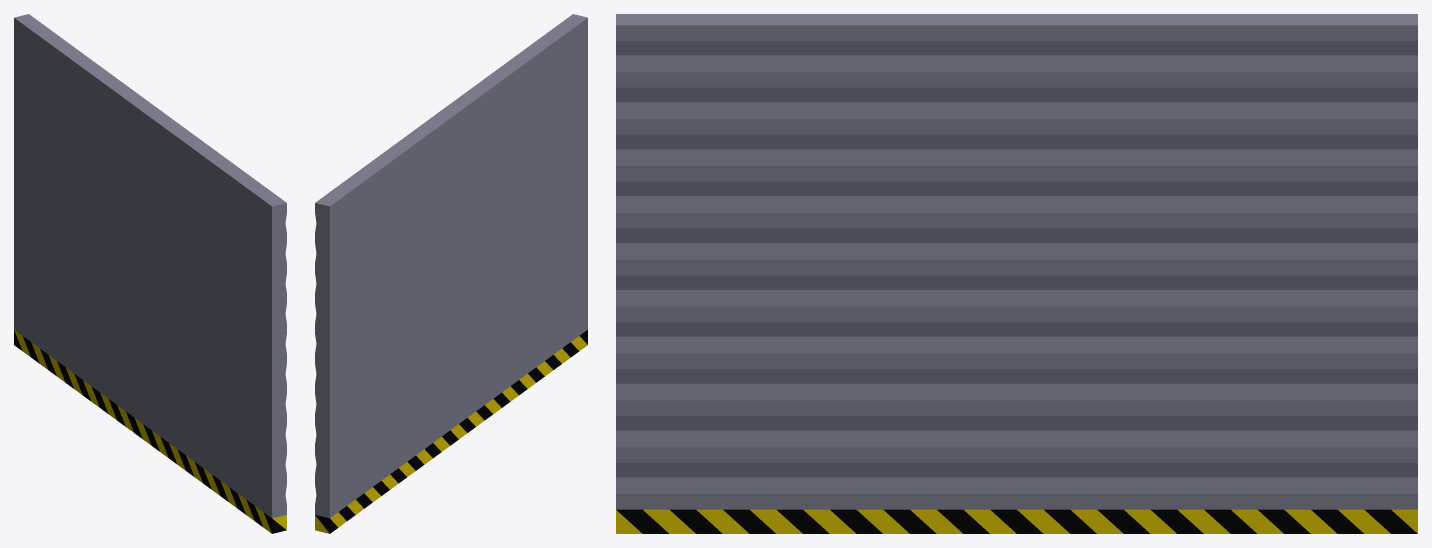
The model's file is High Speed, Heavy door.glb.
The picture shows the model from 3 angles, left to right: view 1: azimuth 30°, elevation 25°; view 2: azimuth 150°, elevation 25°; view 3: azimuth 270°, elevation 25°; orthographic projection. The views are drawn at different scales.
Parts seen in each view (by area): view 1: Cube.001; view 2: Cube.001; view 3: Cube.001.
Boxes of the visible parts, x1,y1,x2,y2 form: Cube.001: [14, 14, 286, 533]; Cube.001: [315, 14, 587, 533]; Cube.001: [616, 14, 1417, 533].
Bounding box in the file's own units: 0.1 × 2.1 × 3.
